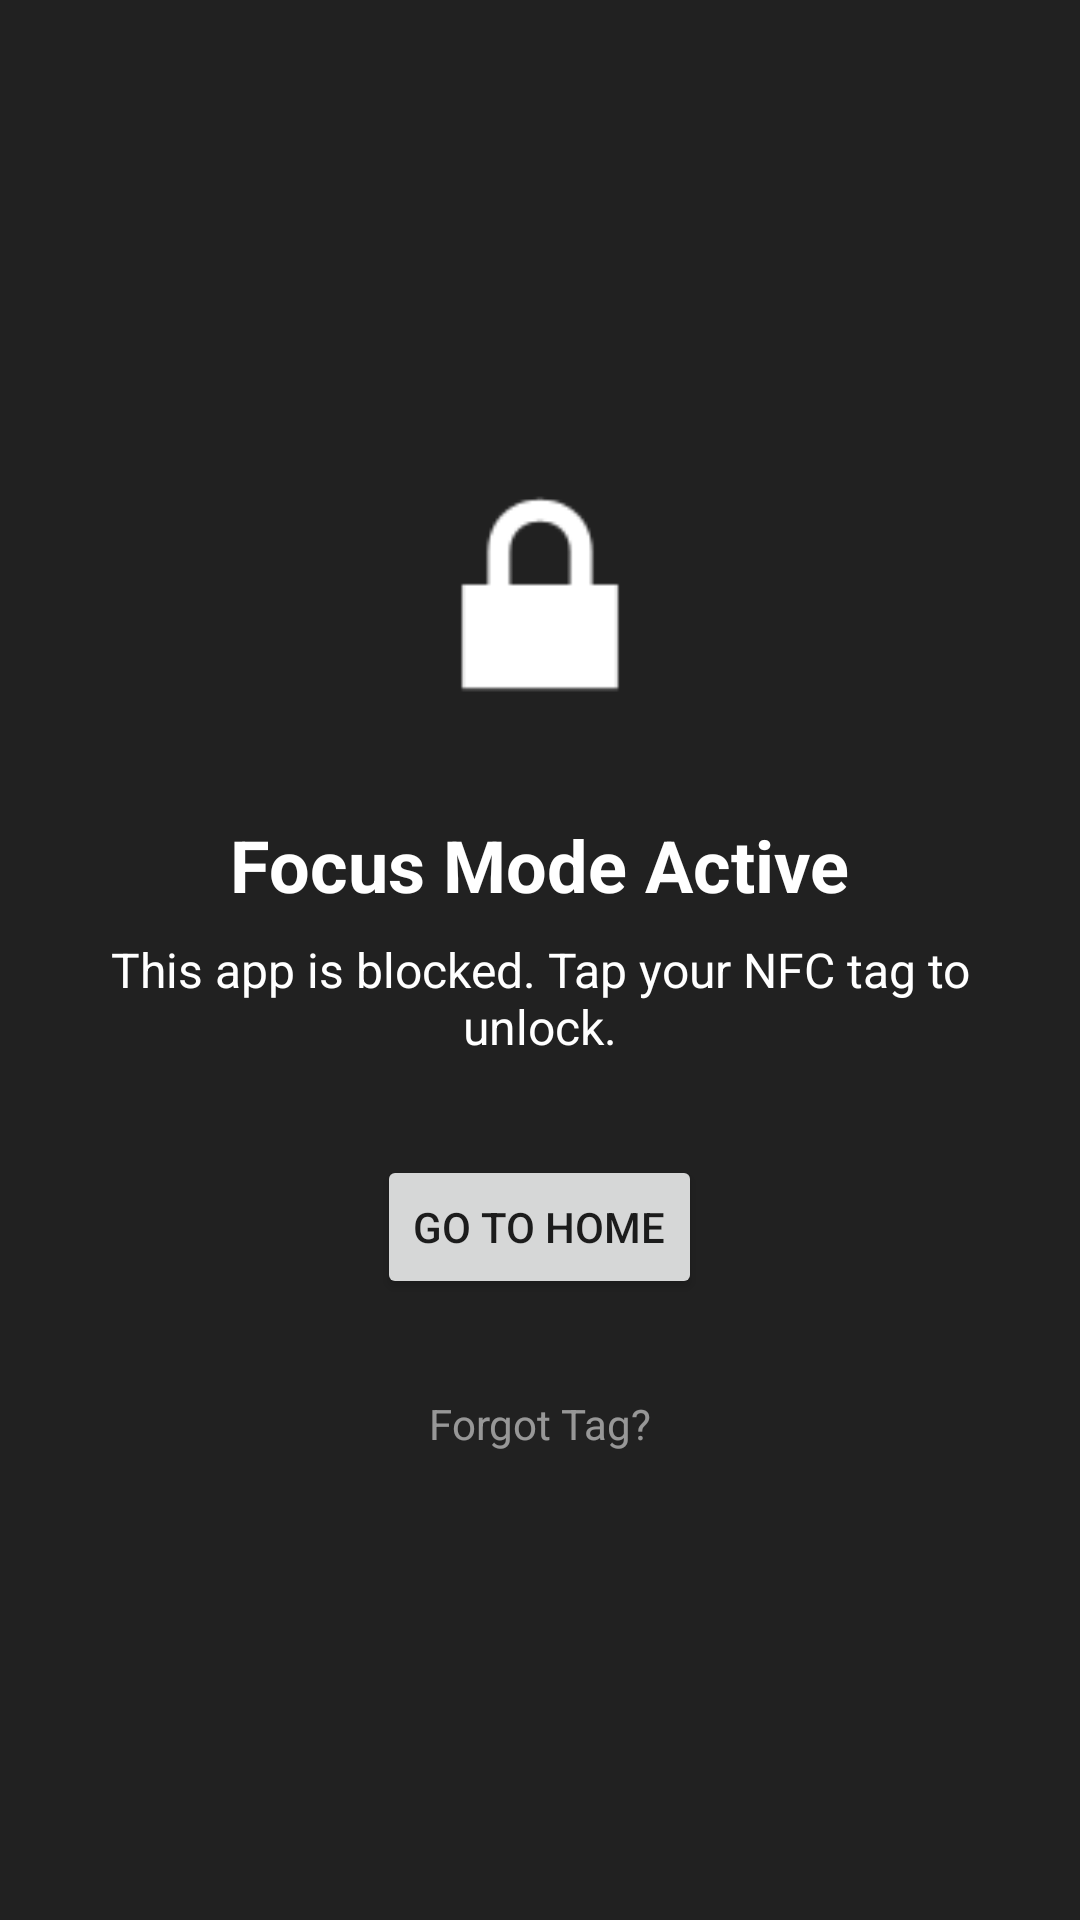

Named icons in this screenshot (1080w x 1920h) and their bounding boxes, (x1, y1, x2, y2):
lock: (461, 497, 619, 691)
